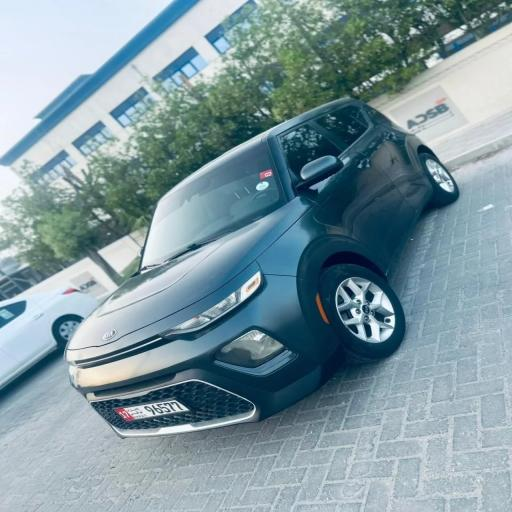license-plates: (114, 400, 190, 421)
